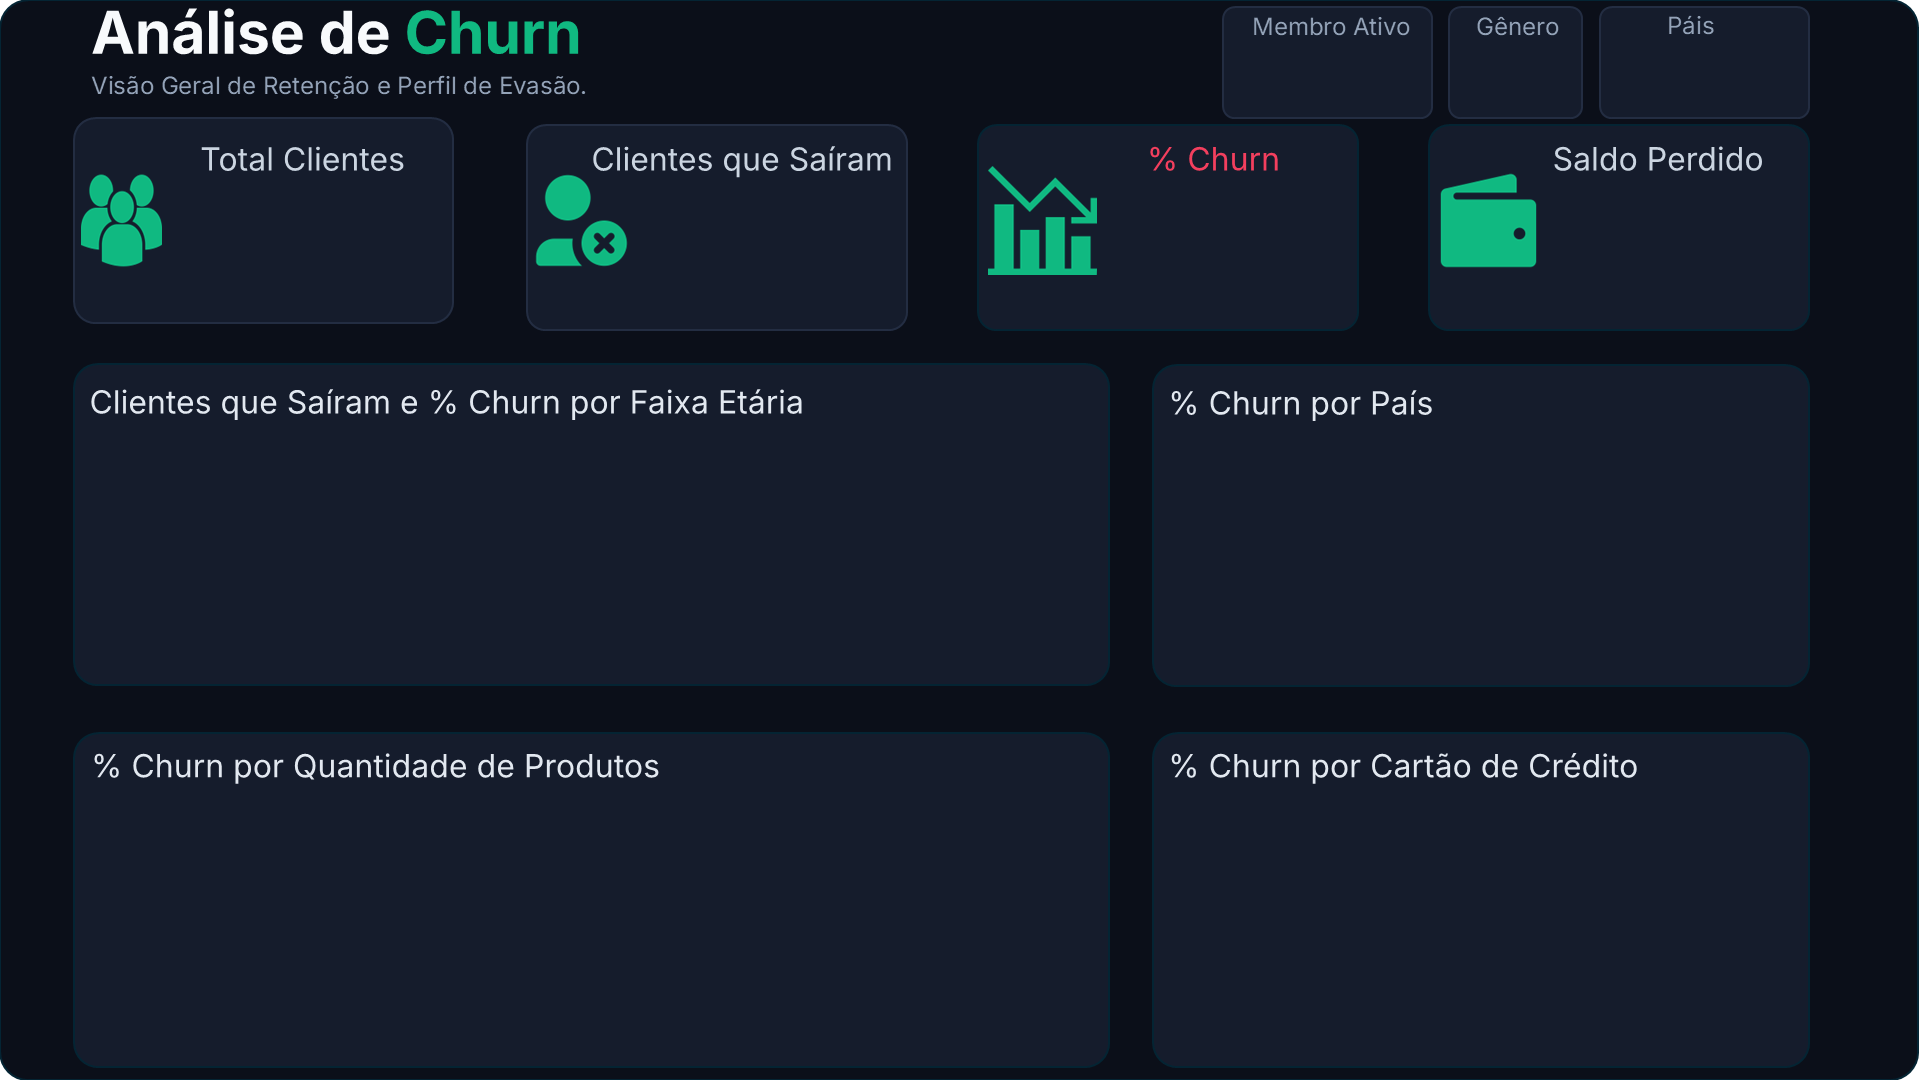

Layout of this report page (visuals, bound fields, positions):
{"tool":"powerbi","page":{"name":"Página 1","canvas":[1920,1080],"ordinal":0},"visuals":[{"type":"card","fields":{"Values":["Medidas.Total Clientes"]},"box":[97.3,127.4,380.1,203.5],"z":0},{"type":"card","fields":{"Values":["Medidas.Clientes que sairam"]},"box":[524.7,127.4,380.1,203.5],"z":1000},{"type":"card","fields":{"Values":["Medidas.% Churn"]},"box":[1024.7,127.4,380.1,203.5],"z":2000},{"type":"card","fields":{"Values":["Medidas.Saldo Perdido"]},"box":[1478.1,127.4,380.1,203.5],"z":3000},{"type":"azureMap","fields":{"Category":["Customer_Info.Geography"],"Size":["Medidas.% Churn"]},"box":[1149.3,419.2,656.2,271.2],"z":4000},{"type":"slicer","title":"Geography","fields":{"Values":["Customer_Info.Geography"]},"box":[1616,48.5,188.5,44.4],"z":5000},{"type":"slicer","fields":{"Values":["Customer_Info.Gender"]},"box":[1460.3,26,139.7,132.9],"z":6000},{"type":"slicer","fields":{"Values":["Account_Info.IsActiveMember"]},"box":[1242.5,32.9,175.3,79.5],"z":7000},{"type":"lineClusteredColumnComboChart","fields":{"Category":["Customer_Info.Faixa Etária"],"Y":["Medidas.Clientes que sairam"],"Y2":["Medidas.% Churn"]},"box":[72.6,419.2,1034.2,282.2],"z":8000},{"type":"columnChart","fields":{"Category":["Account_Info.NumOfProducts"],"Y":["Medidas.% Churn"]},"box":[72.6,738.4,1021.9,313.7],"z":9000},{"type":"columnChart","title":"% Churn por IsActiveMember and HasCrCard","fields":{"Category":["Account_Info.HasCrCard"],"Y":["Medidas.% Churn"]},"box":[1169.9,795.9,635.6,256.2],"z":10000}]}

Visuals, with their boxes in screenshot pixels (x1, y1, x2, y2), scaled from the page's 1920x1080 canvas onto the 1920x1080 screenshot:
card - Medidas.Total Clientes: 97:127:477:331
card - Medidas.Clientes que sairam: 525:127:905:331
card - Medidas.% Churn: 1025:127:1405:331
card - Medidas.Saldo Perdido: 1478:127:1858:331
azureMap - Customer_Info.Geography x Medidas.% Churn: 1149:419:1806:690
"Geography" slicer: 1616:48:1804:93
slicer - Customer_Info.Gender: 1460:26:1600:159
slicer - Account_Info.IsActiveMember: 1242:33:1418:112
lineClusteredColumnComboChart - Customer_Info.Faixa Etária x Medidas.Clientes que sairam: 73:419:1107:701
columnChart - Account_Info.NumOfProducts x Medidas.% Churn: 73:738:1094:1052
"% Churn por IsActiveMember and HasCrCard" columnChart: 1170:796:1806:1052
